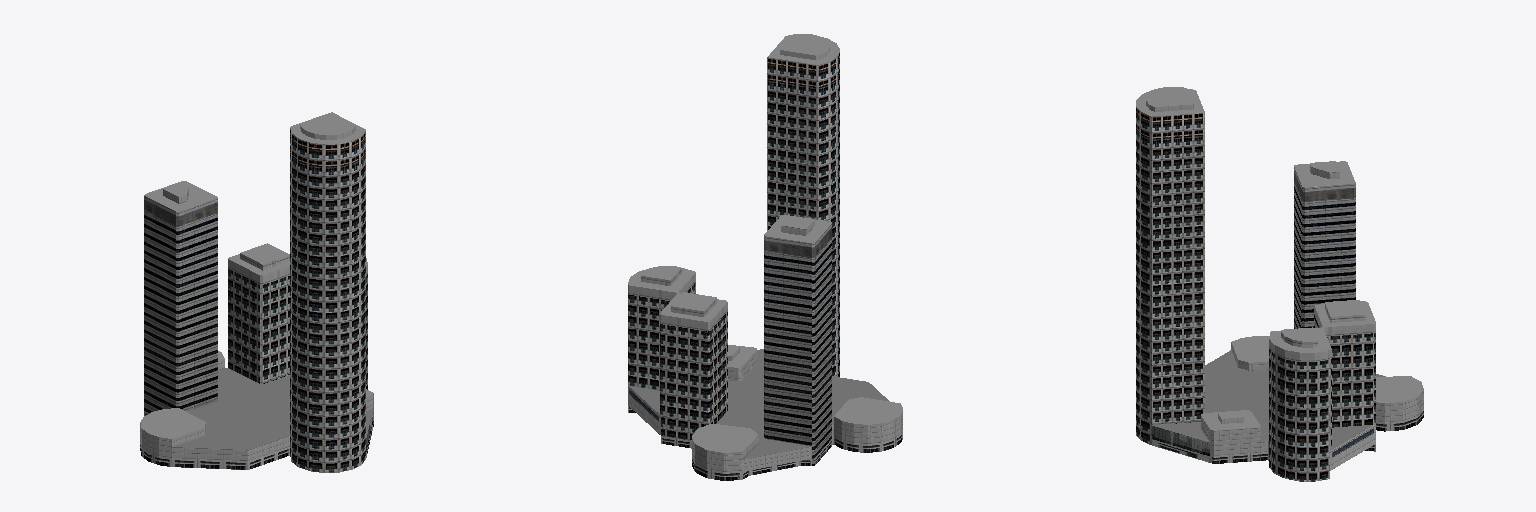
The picture shows the model from 3 angles: view 1: azimuth 30°, elevation 25°; view 2: azimuth 150°, elevation 25°; view 3: azimuth 270°, elevation 25°; orthographic projection.
Visible parts, largest first — view 1: Group002_Mesh; view 2: Group002_Mesh; view 3: Group002_Mesh.
Part boxes in pixels (bbox=[...]): Group002_Mesh: bbox=[140, 112, 373, 472]; Group002_Mesh: bbox=[628, 34, 902, 480]; Group002_Mesh: bbox=[1136, 87, 1423, 481].
Size of the model in its own units: 181 by 240 by 188.
1 materials, 1 textured.